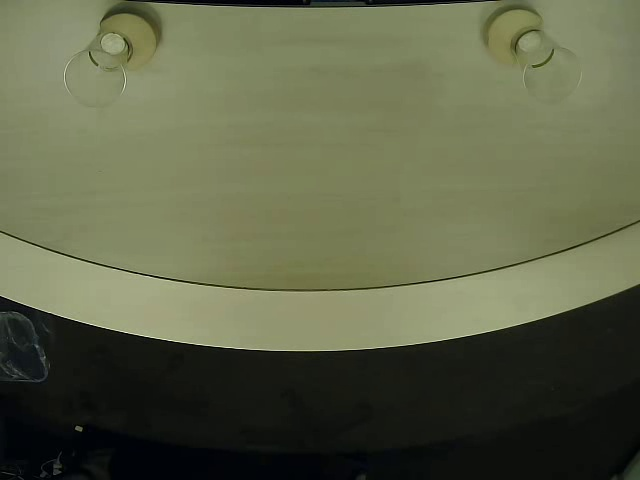Cup: (508, 24, 586, 111), (61, 29, 135, 113)
Deliver: (481, 3, 544, 72), (99, 7, 161, 72)
